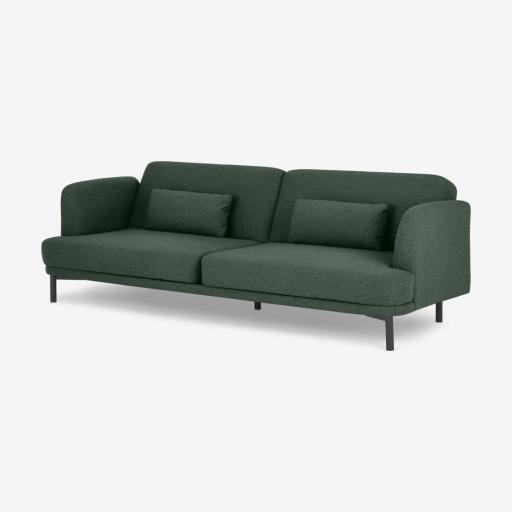back_cushion: (129, 161, 456, 250)
base: (58, 274, 413, 315)
left_arm: (393, 200, 469, 322)
legs: (366, 315, 394, 351), (50, 275, 75, 303), (436, 302, 442, 323), (254, 301, 261, 310)
right_arm: (61, 177, 138, 236)
seat_cushion: (43, 229, 412, 305)
two-seater: (0, 0, 511, 512)
